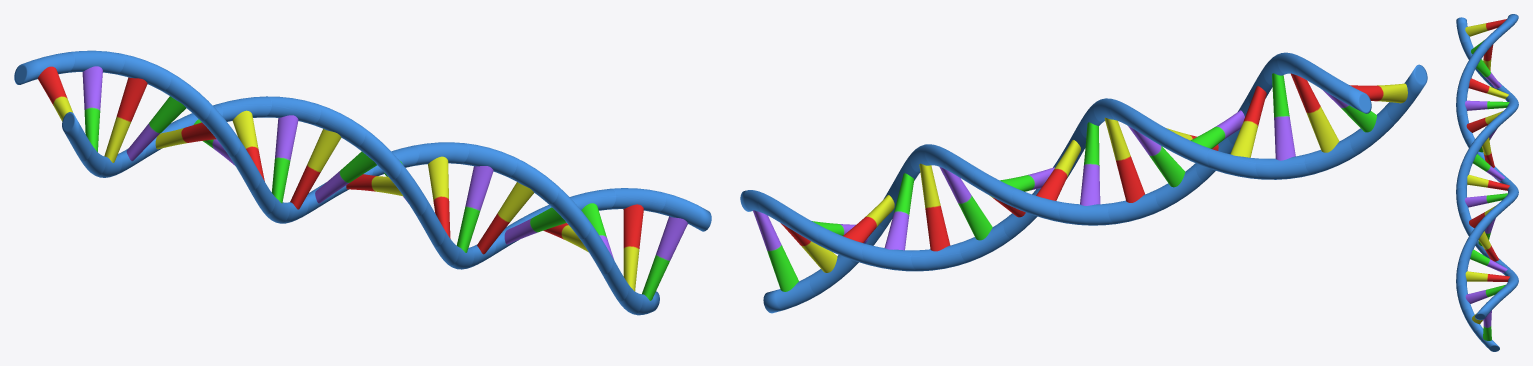
File: dna.glb
3 views of the same model, side by side, from view 1: azimuth 30°, elevation 25°; view 2: azimuth 150°, elevation 25°; view 3: azimuth 270°, elevation 25° (orthographic). The views are drawn at different scales.
Parts seen in each view (by area): view 1: DNA; view 2: DNA; view 3: DNA.
Boxes of the visible parts, bbox=[...] form: DNA: bbox=[14, 50, 711, 315]; DNA: bbox=[740, 52, 1427, 313]; DNA: bbox=[1456, 14, 1518, 351].
Bounding box in the file's own units: 3772 × 2103 × 619.
Materials: 1 (1 with a texture image).
